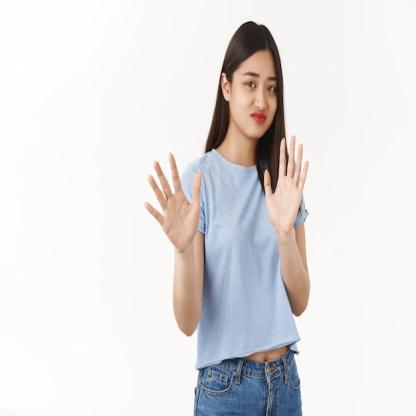stop: (140, 146, 206, 252), (260, 129, 310, 239)
